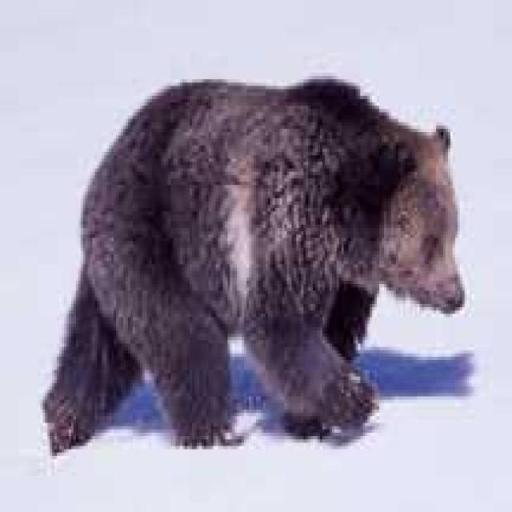Bear: (40, 73, 465, 453)
